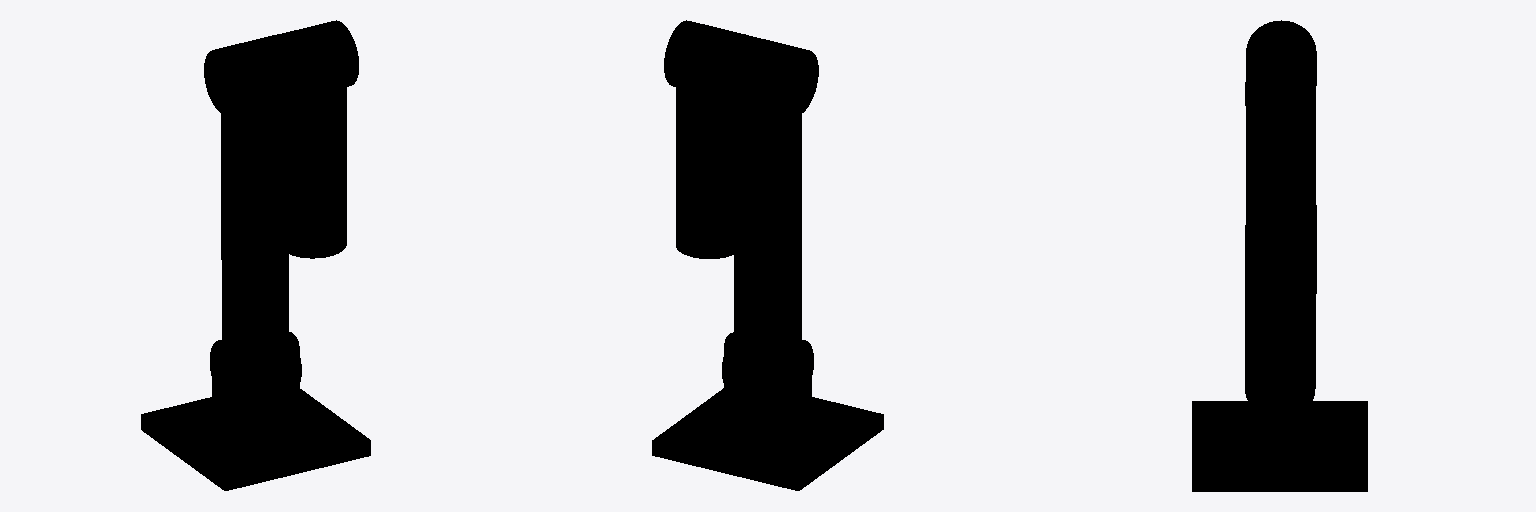
robot.urdf — arm:
<?xml version="1.0"?>
<robot name="arm">

  <link name="base_link"/>

  <link name="first_base">
    <visual>
      <geometry>
        <mesh filename="package://arm_controller/meshs/first-base.stl"/>
      </geometry>
      <origin xyz="0 0 0"/>
      <material name="black">
        <color rgba="0.0 0.0 0.0 2.0"/>
      </material>
    </visual>
  </link>

  <link name="second_base">
    <visual>
      <geometry>
        <mesh filename="package://arm_controller/meshs/second-base.stl"/>
      </geometry>
      <origin xyz = "0 0 0" rpy="0 0 0.2"/>
      <material name="black">
        <color rgba="0.0 0.0 0.0 2.0"/>
      </material>
    </visual>
  </link>

  <link name="first_arm">
    <visual>
      <geometry>
        <mesh filename="package://arm_controller/meshs/first-arm.stl"/>
      </geometry>
      <origin xyz = "0 0 0" rpy="0.17 -0.03 0.16"/>
      <material name="black">
        <color rgba="0.0 0.0 0.0 2.0"/>
      </material>
    </visual>
  </link>

  <link name="second_arm">
    <visual>
      <geometry>
        <mesh filename="package://arm_controller/meshs/second-arm.stl"/>
      </geometry>
      <origin xyz = "0.04 0 0" rpy="1.57 3.14 0"/>
      <material name="black">
        <color rgba="0.0 0.0 0.0 2.0"/>
      </material>
    </visual>
  </link>

  <joint name="base_joint" type="fixed">
    <parent link="base_link"/>
    <child link="first_base"/>
  </joint>
  
  <joint name="first_joint" type="revolute">
    <axis xyz="0 0 1"/>
    <origin xyz = "0 0 0" />
    <parent link="first_base"/>
    <child link="second_base"/>
    <limit effort="100" lower="-1.57" upper="1.57" velocity="100.0"/>
  </joint>

  <joint name="second_joint" type="revolute">
    <axis xyz="1 0 0"/>
    <origin xyz = "0 0 0.05" />
    <parent link="second_base"/>
    <child link="first_arm"/>
    <limit effort="100" lower="-1.57" upper="1.57" velocity="100.0"/>
  </joint>

  <joint name="third_joint" type="revolute">
    <axis xyz="1 0 0"/>
    <origin xyz = "0 0 0.19" />
    <parent link="first_arm"/>
    <child link="second_arm"/>
    <limit effort="100" lower="-1.57" upper="1.57" velocity="100.0"/>
  </joint>

</robot>

--- Facts derived from the render (not from the file) ---
3 views of the same robot in one strip: view 1: azimuth 30°, elevation 25°; view 2: azimuth 150°, elevation 25°; view 3: azimuth 270°, elevation 25° (orthographic).
Model arm with 5 links and 4 joints (3 revolute, 1 fixed), rooted at base_link, posed every joint at zero.
Visible links, largest first — view 1: first_arm, second_arm, first_base, second_base; view 2: first_arm, second_arm, first_base, second_base; view 3: second_arm, first_base, first_arm, second_base.
Boxes of the visible links, left/top/right/bottom form: first_arm: left=204, top=34, right=301, bottom=403; second_arm: left=279, top=20, right=358, bottom=258; first_base: left=141, top=389, right=370, bottom=490; second_base: left=212, top=332, right=299, bottom=445; first_arm: left=722, top=35, right=818, bottom=404; second_arm: left=664, top=20, right=745, bottom=258; first_base: left=652, top=388, right=883, bottom=490; second_base: left=724, top=332, right=811, bottom=445; second_arm: left=1245, top=53, right=1316, bottom=305; first_base: left=1192, top=401, right=1367, bottom=491; first_arm: left=1245, top=20, right=1316, bottom=406; second_base: left=1234, top=365, right=1325, bottom=457.
Bounding box of the posed robot: 0.1095 × 0.1 × 0.2602 m (x, y, z).
Meshes: 4 distinct files referenced, 4 mesh visuals loaded (4 binary STL).
